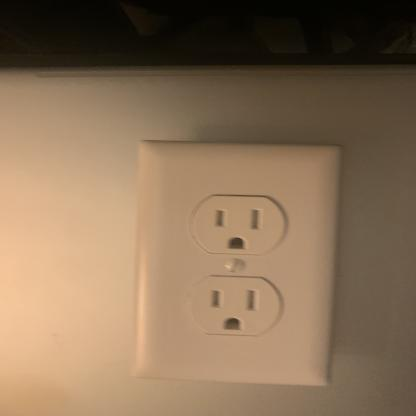OUTLET: (136, 146, 340, 382)
